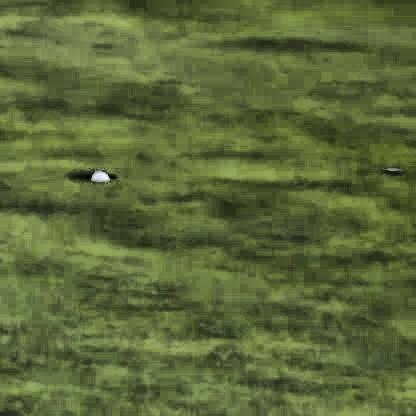golfball: (90, 174, 108, 184)
